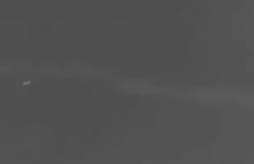Target: (25, 82, 30, 84)
